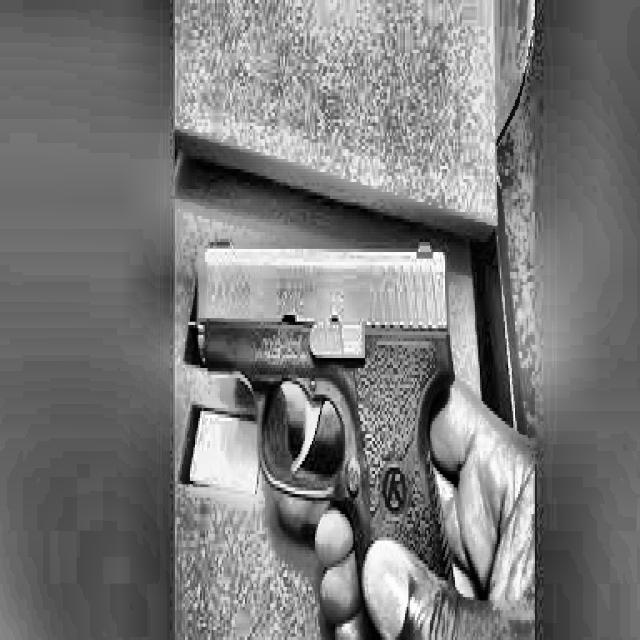Kahr: (188, 235, 458, 640)
